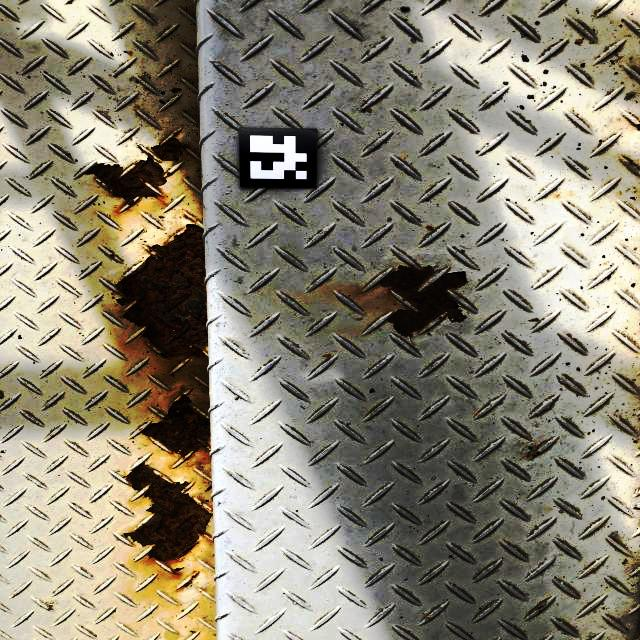Corrosion: (116, 224, 208, 359), (124, 465, 211, 562), (380, 266, 468, 338), (86, 145, 167, 206), (142, 397, 210, 457), (151, 138, 187, 161), (189, 572, 199, 580), (537, 603, 548, 610), (174, 567, 185, 572)
